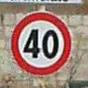limite 40: (8, 9, 73, 75)
